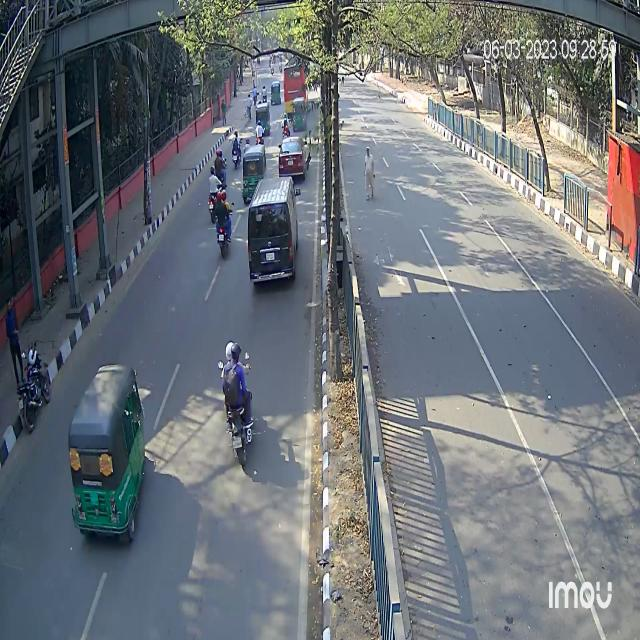cng: (71, 356, 157, 548), (239, 144, 268, 210), (291, 95, 308, 138), (254, 98, 273, 136), (268, 79, 283, 108)
